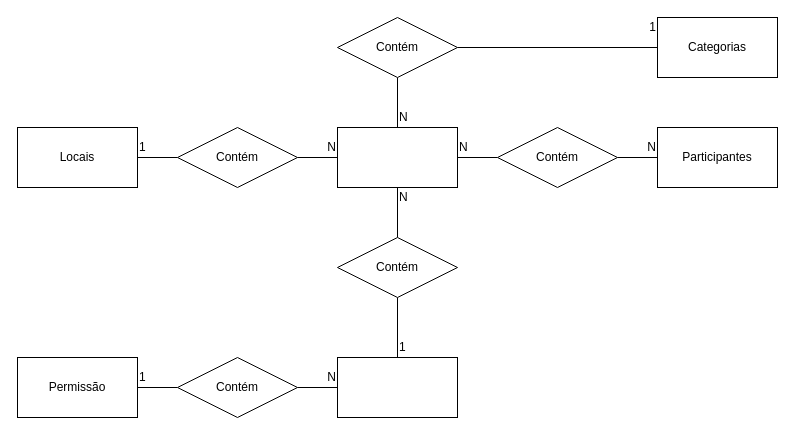
This 795x435 diagram has some shape labels left out. Each missing label, with the centre of its shape:
Agendamentos: (x=397, y=157)
Usuários: (x=397, y=387)
